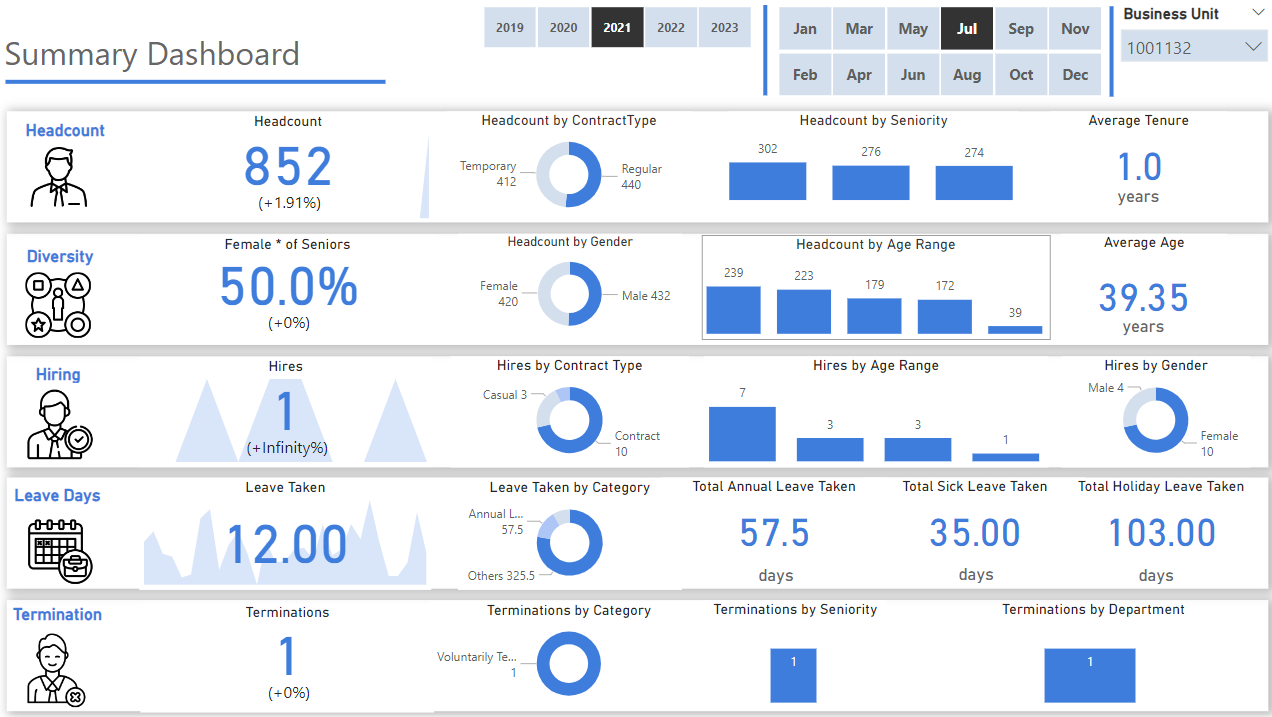

The page's visual inventory and layout, read from the dashboard file:
{"tool":"powerbi","page":{"name":"Page 1","canvas":[1280,720],"ordinal":0},"visuals":[{"type":"shape","box":[8.6,355.7,1262,111],"z":0},{"type":"textbox","box":[1,26.2,370.5,55],"z":1000},{"type":"shape","box":[8,50.6,380,61.1],"z":2000},{"type":"slicer","fields":{"Values":["v_dim_date.Year"]},"box":[459.8,0,316.7,53.8],"z":3000},{"type":"slicer","fields":{"Values":["v_dim_businessunit.Name"]},"box":[1112.8,0,167.5,80.7],"z":4000},{"type":"slicer","fields":{"Values":["v_dim_date.MonthNameShort"]},"box":[754.6,0,372.2,102.4],"z":5000},{"type":"shape","box":[673.8,4.9,187.1,90.5],"z":6000},{"type":"shape","box":[1019.8,6.1,187.1,90.5],"z":7000},{"type":"shape","box":[8.6,233.5,1262,111],"z":8000},{"type":"shape","box":[8.6,111.3,1262,111],"z":9000},{"type":"shape","box":[8.6,600.4,1262,111.3],"z":10000},{"type":"donutChart","title":"Headcount by ContractType","fields":{"Y":["CountNonNull(v_fact_headcount.Headcount)"],"Category":["v_fact_headcount.ContractType"]},"box":[448.8,111.3,244.6,110.1],"z":11000},{"type":"clusteredColumnChart","title":"Headcount by Seniority","fields":{"Category":["v_dim_senioritylevel.Name"],"Y":["Sum(v_fact_headcount.Headcount)"]},"box":[731,111,289,110],"z":12000},{"type":"shape","box":[8.6,477.9,1262,111.3],"z":13000},{"type":"card","title":"Average Tenure","fields":{"Values":["v_dim_employee.AverageTenureYears"]},"box":[1052.4,110.9,176.4,86.8],"z":14000},{"type":"donutChart","title":"Headcount by Gender","fields":{"Category":["v_fact_headcount.Gender"],"Y":["CountNonNull(v_fact_headcount.Headcount)"]},"box":[460,234,224,106],"z":15000},{"type":"clusteredColumnChart","title":"Headcount by Age Range","fields":{"Category":["v_fact_headcount.AgeBanding"],"Y":["CountNonNull(v_fact_headcount.Headcount)"]},"box":[704,235,348,105],"z":16000},{"type":"cardVisual","title":"Average Age","fields":{"Data":["Avg(v_fact_headcount.Age)"]},"box":[1063.8,233.2,165,88.2],"z":17000},{"type":"textbox","title":"Headcount","box":[22,119.8,95.4,47.7],"z":18000},{"type":"image","box":[21.6,132.7,79.4,89.5],"z":19000},{"type":"kpi","title":"Headcount","fields":{"TrendLine":["v_dim_date.DateValue"],"Goal":["v_fact_headcount.HeadcountPM"],"Indicator":["v_fact_headcount.HeadcountMe"]},"box":[143.7,112.3,292.6,111],"z":20000},{"type":"image","box":[22,268,75,75],"z":21000},{"type":"kpi","title":"Female * of Seniors","fields":{"TrendLine":["v_dim_date.DateValue"],"Goal":["v_fact_headcount.Female%OfSeniorPM"],"Indicator":["v_fact_headcount.Female%OfSenior"]},"box":[142,235,294,105],"z":22000},{"type":"image","box":[23.1,379.4,79.4,88],"z":23000},{"type":"textbox","title":"Diversity","box":[23.2,245.8,95.4,47.7],"z":24000},{"type":"textbox","title":"Hiring","box":[12.2,363.2,95.4,47.7],"z":25000},{"type":"donutChart","title":"Hires by Contract Type","fields":{"Category":["v_dim_vacancy.PositionType"],"Y":["v_fact_recruitment.TotalHired"]},"box":[452.4,355.8,238.5,111.3],"z":26000},{"type":"clusteredColumnChart","title":"Hires by Age Range","fields":{"Category":["v_fact_recruitment.AgeBanding"],"Y":["v_fact_recruitment.TotalHired"]},"box":[706.8,355.8,343.6,111.3],"z":27000},{"type":"donutChart","title":"Hires by Gender","fields":{"Category":["v_fact_recruitment.Gender"],"Y":["v_fact_recruitment.TotalHired"]},"box":[1063.9,355.8,188.3,111.3],"z":28000},{"type":"image","box":[20.8,513.6,81.9,75.8],"z":29000},{"type":"textbox","title":"Leave Days","box":[0,485.5,118.6,47.7],"z":30000},{"type":"donutChart","title":"Leave Taken by Category","fields":{"Category":["v_fact_leave.FilteredCategory"],"Y":["Sum(v_fact_leave.Days)"]},"box":[459.8,478.1,223.8,111.3],"z":31000},{"type":"card","title":"Total Annual Leave Taken","fields":{"Values":["v_fact_leave.TotalAnnualLeaveTaken"]},"box":[664.2,477.9,224.7,86.8],"z":32000},{"type":"textbox","title":"days","box":[718.2,564.6,118,48.4],"z":33000},{"type":"textbox","title":"years","box":[1080.9,186.3,118,48.4],"z":34000},{"type":"textbox","title":"years","box":[1086.6,315.7,118,48.4],"z":35000},{"type":"card","title":"Total Sick Leave Taken","fields":{"Values":["v_fact_leave.TotalSickLeaveTaken"]},"box":[865.8,476.9,221.3,86.8],"z":36000},{"type":"textbox","title":"days","box":[918.3,563.7,118.6,47.7],"z":37000},{"type":"card","title":"Total Holiday Leave Taken","fields":{"Values":["v_fact_leave.TotalHolidayLeaveTaken"]},"box":[1073.6,476.9,178.5,86.8],"z":38000},{"type":"textbox","title":"days","box":[1099.3,564.9,118.6,47.7],"z":39000},{"type":"kpi","title":"Hires","fields":{"Indicator":["v_fact_recruitment.TotalHired"],"TrendLine":["v_dim_date.DateValue"],"Goal":["v_fact_recruitment.TotalHiredPM"]},"box":[141.4,357.8,292.9,109.6],"z":40000},{"type":"kpi","title":"Leave Taken","fields":{"Indicator":["v_fact_leave.TotalLeaveTaken"],"TrendLine":["v_dim_date.DateValue"],"Goal":["v_fact_leave.Measure"]},"box":[141.8,478.1,292.3,111.3],"z":41000},{"type":"image","box":[11,628.5,94.2,83.2],"z":42000},{"type":"textbox","title":"Termination","box":[8.6,604.1,101.5,47.7],"z":43000},{"type":"kpi","title":"Terminations","fields":{"TrendLine":["v_dim_date.DateValue"],"Goal":["v_dim_employee.TerminationPM"],"Indicator":["v_dim_employee.TotalTermination"]},"box":[142.4,603.4,293.9,108.4],"z":44000},{"type":"donutChart","title":"Terminations by Category","fields":{"Y":["v_dim_employee.TotalTermination"],"Series":["v_dim_employee.EmploymentStatus"]},"box":[431,600.8,279.5,108.4],"z":45000},{"type":"clusteredColumnChart","title":"Terminations by Seniority","fields":{"Y":["v_dim_employee.TotalTermination"],"Category":["v_dim_senioritylevel.Name"]},"box":[706.8,600.4,182.2,108.8],"z":46000},{"type":"clusteredColumnChart","title":"Terminations by Department","fields":{"Y":["v_dim_employee.TotalTermination"],"Category":["v_dim_department.Name"]},"box":[919.6,600.4,351,108.8],"z":47000}]}

Visuals, with their boxes in screenshot pixels (x1, y1, x2, y2), scaled from the page's 1280x720 canvas onto the 1272x717 screenshot:
shape: [x1=9, y1=354, x2=1263, y2=465]
textbox: [x1=1, y1=26, x2=369, y2=81]
shape: [x1=8, y1=50, x2=386, y2=111]
slicer - v_dim_date.Year: [x1=457, y1=0, x2=772, y2=54]
slicer - v_dim_businessunit.Name: [x1=1106, y1=0, x2=1271, y2=80]
slicer - v_dim_date.MonthNameShort: [x1=750, y1=0, x2=1120, y2=102]
shape: [x1=670, y1=5, x2=856, y2=95]
shape: [x1=1013, y1=6, x2=1199, y2=96]
shape: [x1=9, y1=233, x2=1263, y2=343]
shape: [x1=9, y1=111, x2=1263, y2=221]
shape: [x1=9, y1=598, x2=1263, y2=709]
"Headcount by ContractType" donutChart: [x1=446, y1=111, x2=689, y2=220]
"Headcount by Seniority" clusteredColumnChart: [x1=726, y1=111, x2=1014, y2=220]
shape: [x1=9, y1=476, x2=1263, y2=587]
"Average Tenure" card: [x1=1046, y1=110, x2=1221, y2=197]
"Headcount by Gender" donutChart: [x1=457, y1=233, x2=680, y2=339]
"Headcount by Age Range" clusteredColumnChart: [x1=700, y1=234, x2=1045, y2=339]
"Average Age" cardVisual: [x1=1057, y1=232, x2=1221, y2=320]
"Headcount" textbox: [x1=22, y1=119, x2=117, y2=167]
image: [x1=21, y1=132, x2=100, y2=221]
"Headcount" kpi: [x1=143, y1=112, x2=434, y2=222]
image: [x1=22, y1=267, x2=96, y2=342]
"Female * of Seniors" kpi: [x1=141, y1=234, x2=433, y2=339]
image: [x1=23, y1=378, x2=102, y2=465]
"Diversity" textbox: [x1=23, y1=245, x2=118, y2=292]
"Hiring" textbox: [x1=12, y1=362, x2=107, y2=409]
"Hires by Contract Type" donutChart: [x1=450, y1=354, x2=687, y2=465]
"Hires by Age Range" clusteredColumnChart: [x1=702, y1=354, x2=1044, y2=465]
"Hires by Gender" donutChart: [x1=1057, y1=354, x2=1244, y2=465]
image: [x1=21, y1=511, x2=102, y2=587]
"Leave Days" textbox: [x1=0, y1=483, x2=118, y2=531]
"Leave Taken by Category" donutChart: [x1=457, y1=476, x2=679, y2=587]
"Total Annual Leave Taken" card: [x1=660, y1=476, x2=883, y2=562]
"days" textbox: [x1=714, y1=562, x2=831, y2=610]
"years" textbox: [x1=1074, y1=186, x2=1191, y2=234]
"years" textbox: [x1=1080, y1=314, x2=1197, y2=363]
"Total Sick Leave Taken" card: [x1=860, y1=475, x2=1080, y2=561]
"days" textbox: [x1=913, y1=561, x2=1030, y2=609]
"Total Holiday Leave Taken" card: [x1=1067, y1=475, x2=1244, y2=561]
"days" textbox: [x1=1092, y1=563, x2=1210, y2=610]
"Hires" kpi: [x1=141, y1=356, x2=432, y2=465]
"Leave Taken" kpi: [x1=141, y1=476, x2=431, y2=587]
image: [x1=11, y1=626, x2=105, y2=709]
"Termination" textbox: [x1=9, y1=602, x2=109, y2=649]
"Terminations" kpi: [x1=142, y1=601, x2=434, y2=709]
"Terminations by Category" donutChart: [x1=428, y1=598, x2=706, y2=706]
"Terminations by Seniority" clusteredColumnChart: [x1=702, y1=598, x2=883, y2=706]
"Terminations by Department" clusteredColumnChart: [x1=914, y1=598, x2=1263, y2=706]
